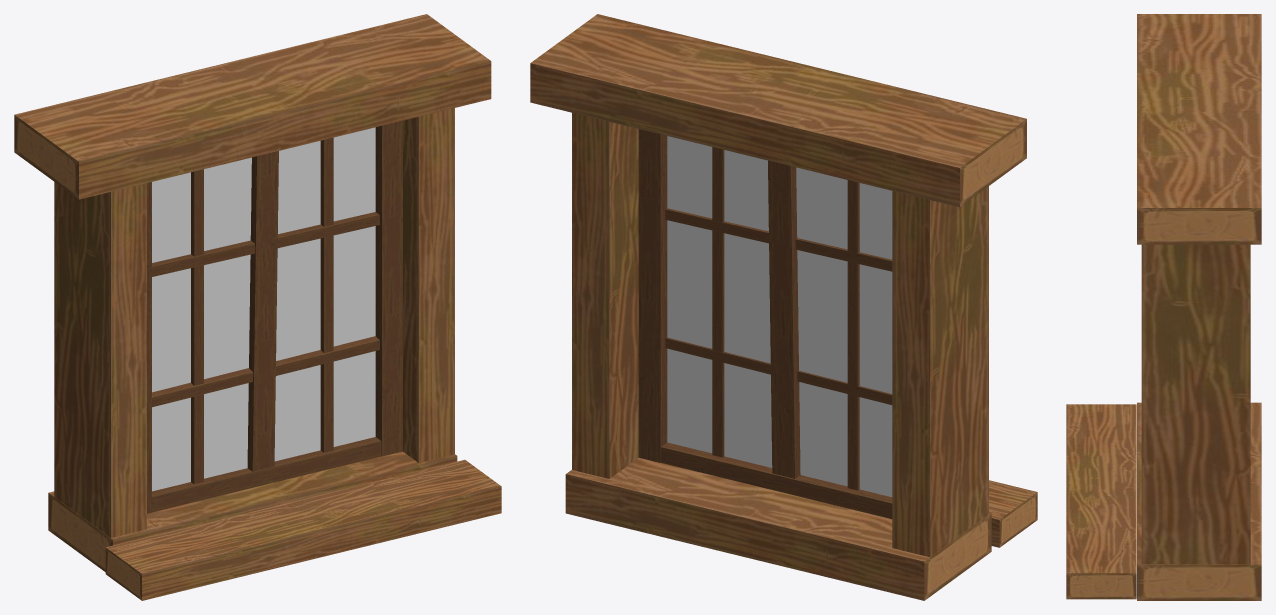
Rendered from window-qm-windowwideflat1.glb.
3 renders of one model, left to right at view 1: azimuth 30°, elevation 25°; view 2: azimuth 150°, elevation 25°; view 3: azimuth 270°, elevation 25°, orthographic. The views are drawn at different scales.
Parts seen in each view (by area): view 1: Cube_153; view 2: Cube_153; view 3: Cube_153.
Part boxes in pixels (x1,y1,x2,y2): Cube_153: (14,14,501,600); Cube_153: (530,14,1037,600); Cube_153: (1066,14,1261,600).
Bounding box in the file's own units: 1.61 × 1.58 × 0.6834.
2 materials, 1 textured.
